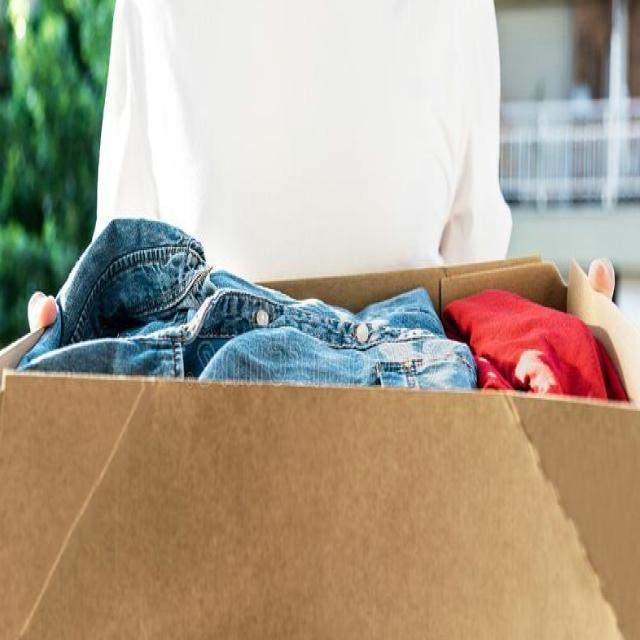clothes: (21, 268, 546, 387)
